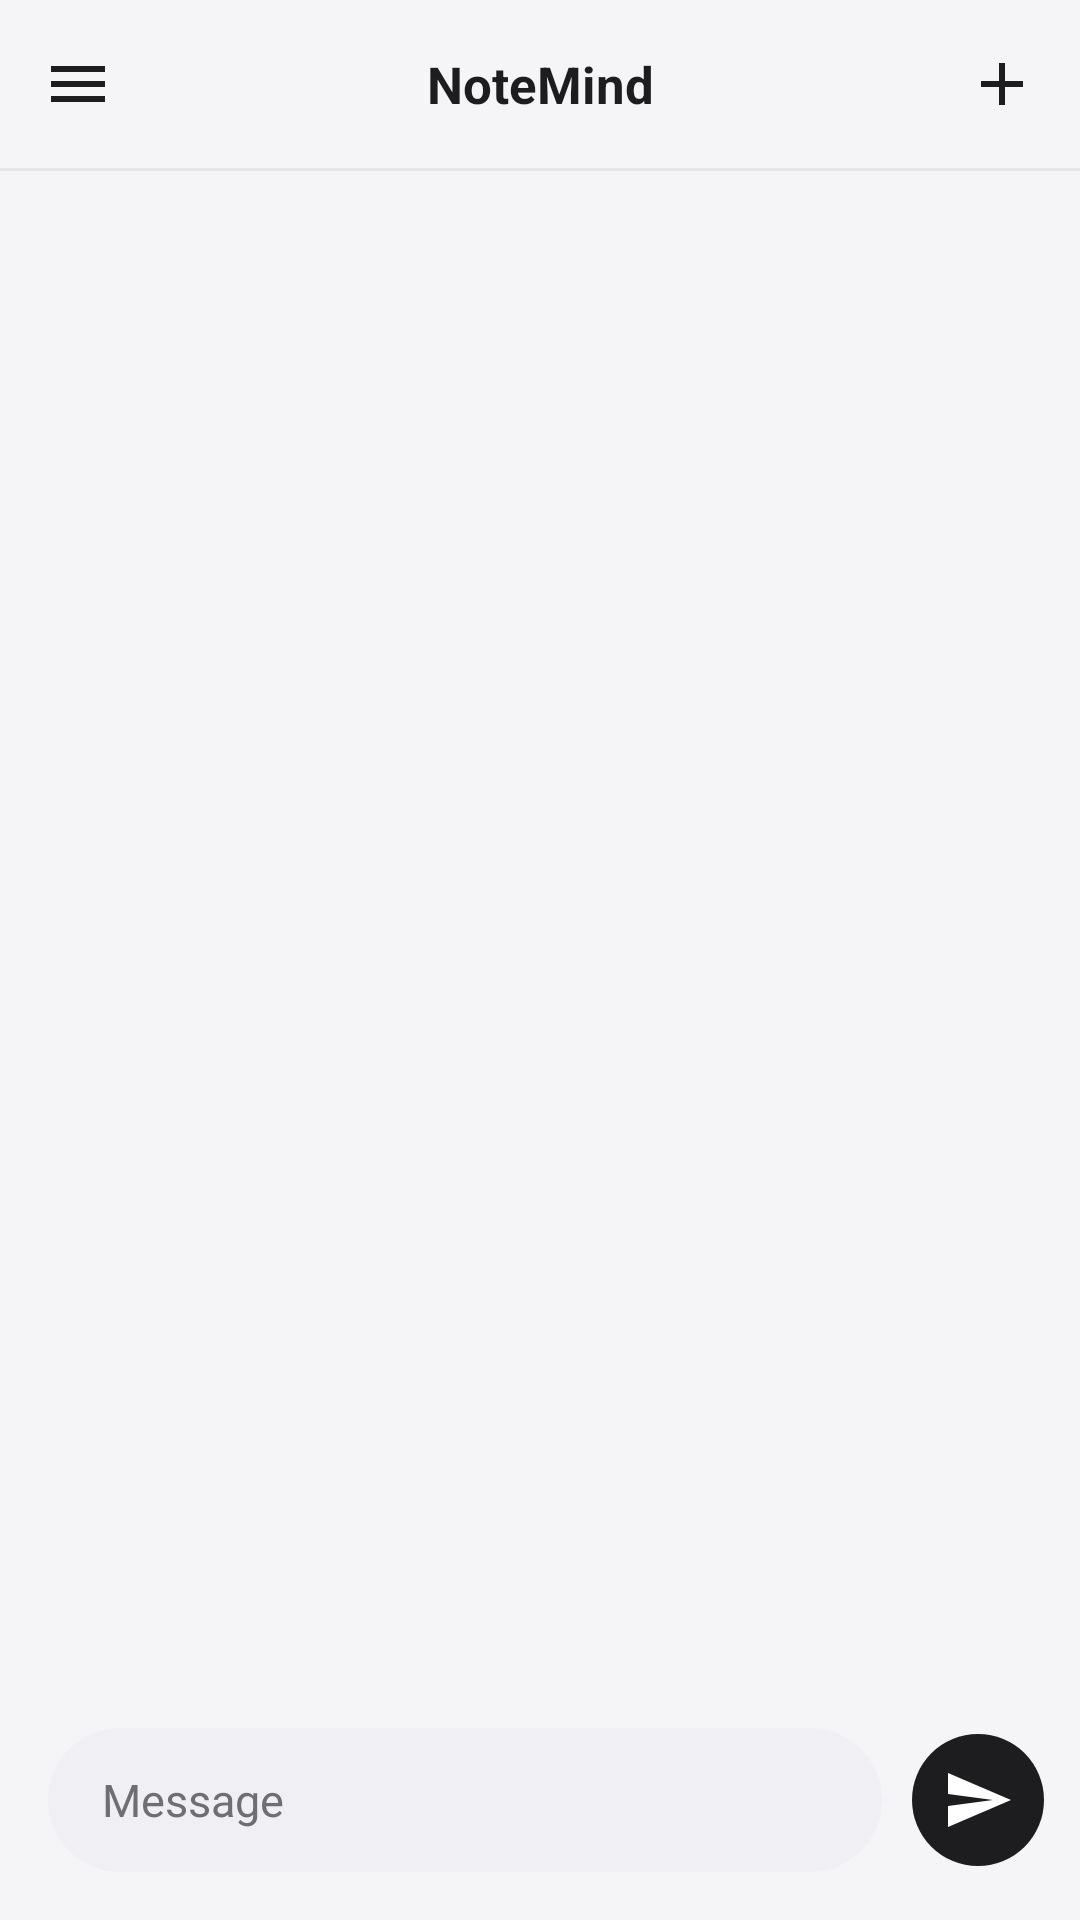

Icon bounding boxes for this 1080w x 1920h phone screenshot, format (x1, y1, x2, y2):
Menu: (51, 66, 105, 102)
New Chat: (981, 63, 1023, 105)
Send: (912, 1734, 1044, 1866)
